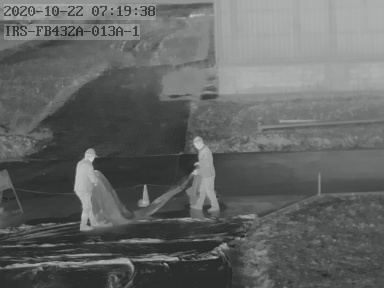person: (72, 146, 105, 231), (189, 133, 220, 212)
